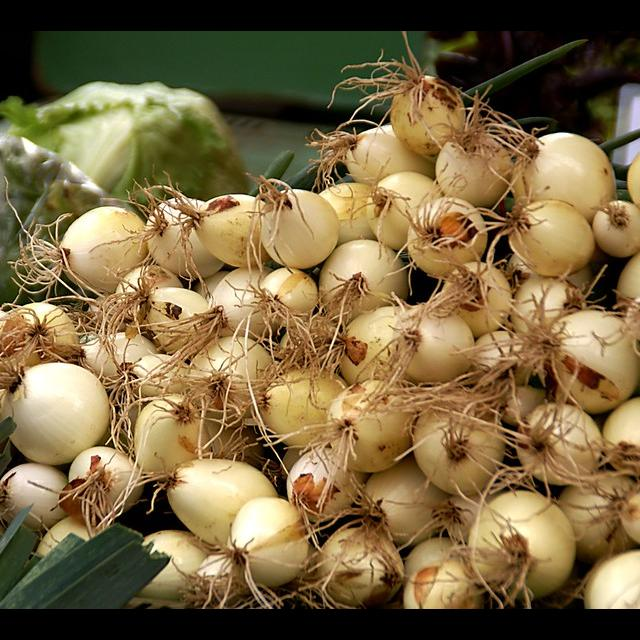green_onion: (265, 284, 640, 564), (194, 179, 340, 268), (12, 205, 148, 294), (152, 230, 206, 277)
